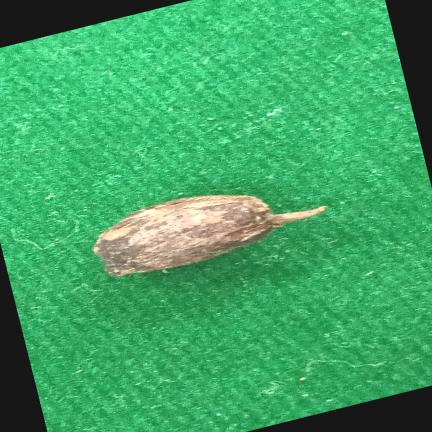husk: (93, 195, 326, 276)
